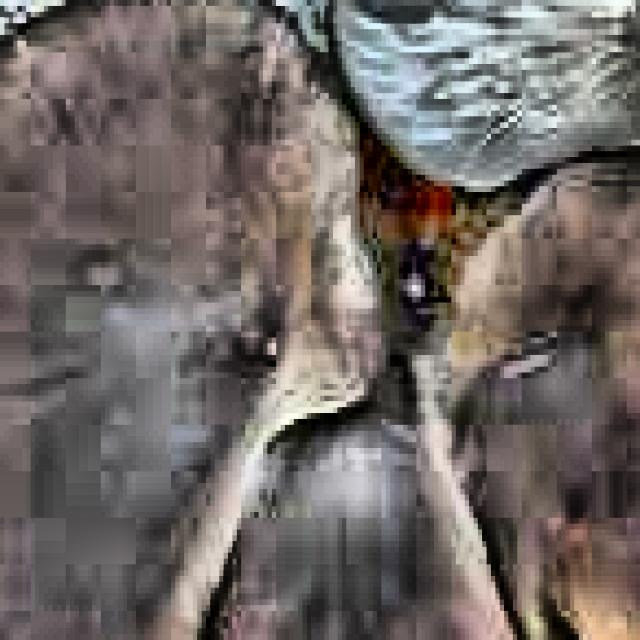Affected: (0, 227, 289, 523), (478, 308, 640, 582), (285, 535, 416, 640)
